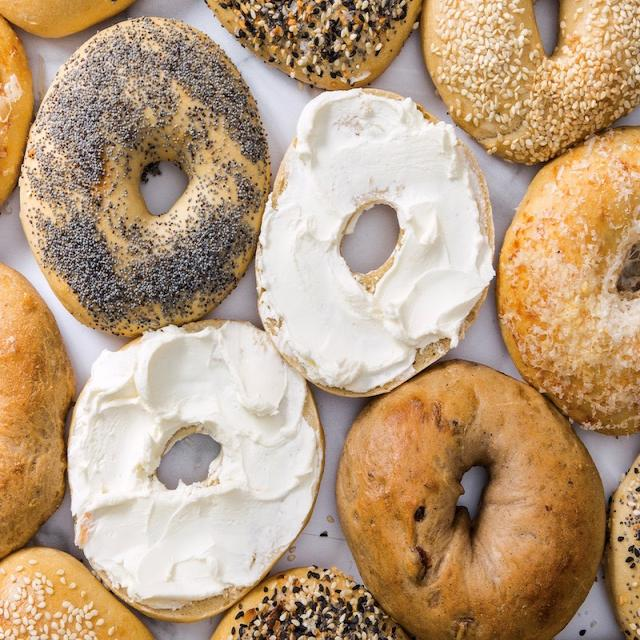Bagel: (20, 17, 270, 336), (68, 320, 324, 621), (336, 361, 605, 638), (255, 89, 494, 396), (496, 127, 640, 435), (421, 0, 640, 163), (0, 262, 75, 557), (208, 1, 421, 90)
